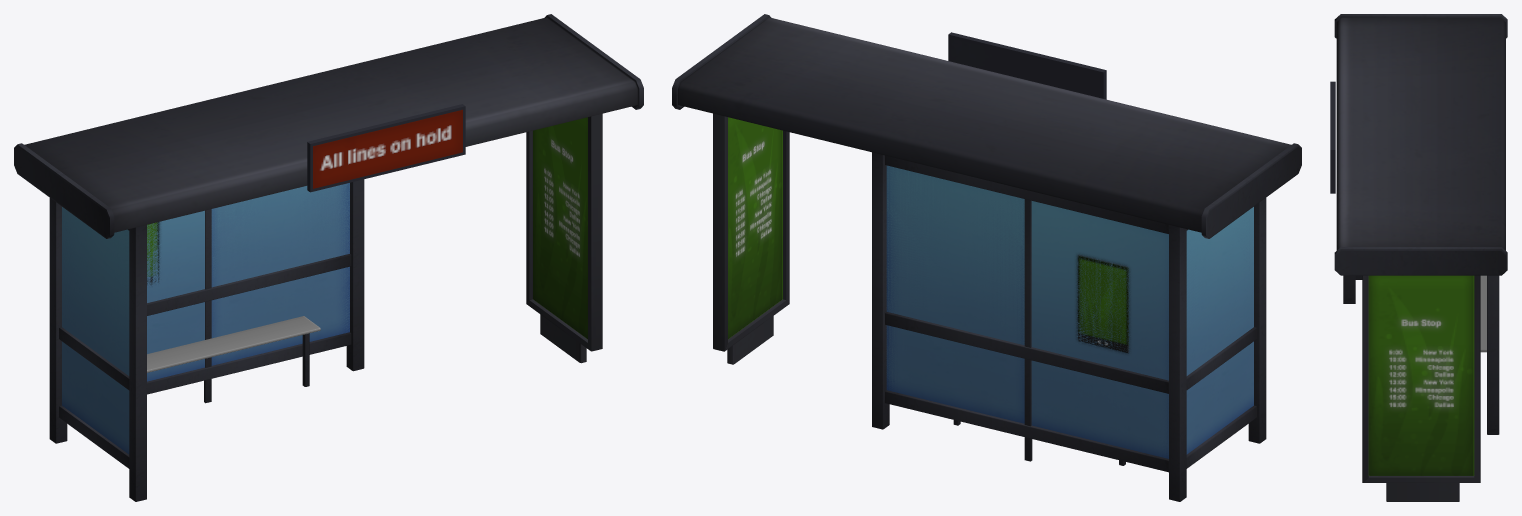
Rendered from Bus_stop.fbx.
3 renders of one model, left to right at view 1: azimuth 30°, elevation 25°; view 2: azimuth 150°, elevation 25°; view 3: azimuth 270°, elevation 25°, orthographic. The views are drawn at different scales.
Visible parts, largest first — view 1: polySurface1247; view 2: polySurface1247; view 3: polySurface1247.
Boxes of the visible parts, x1,y1,x2,y2 form: polySurface1247: (14, 14, 643, 501); polySurface1247: (672, 14, 1301, 501); polySurface1247: (1330, 14, 1507, 501).
Size of the model in its own units: 400 by 231 by 128.
